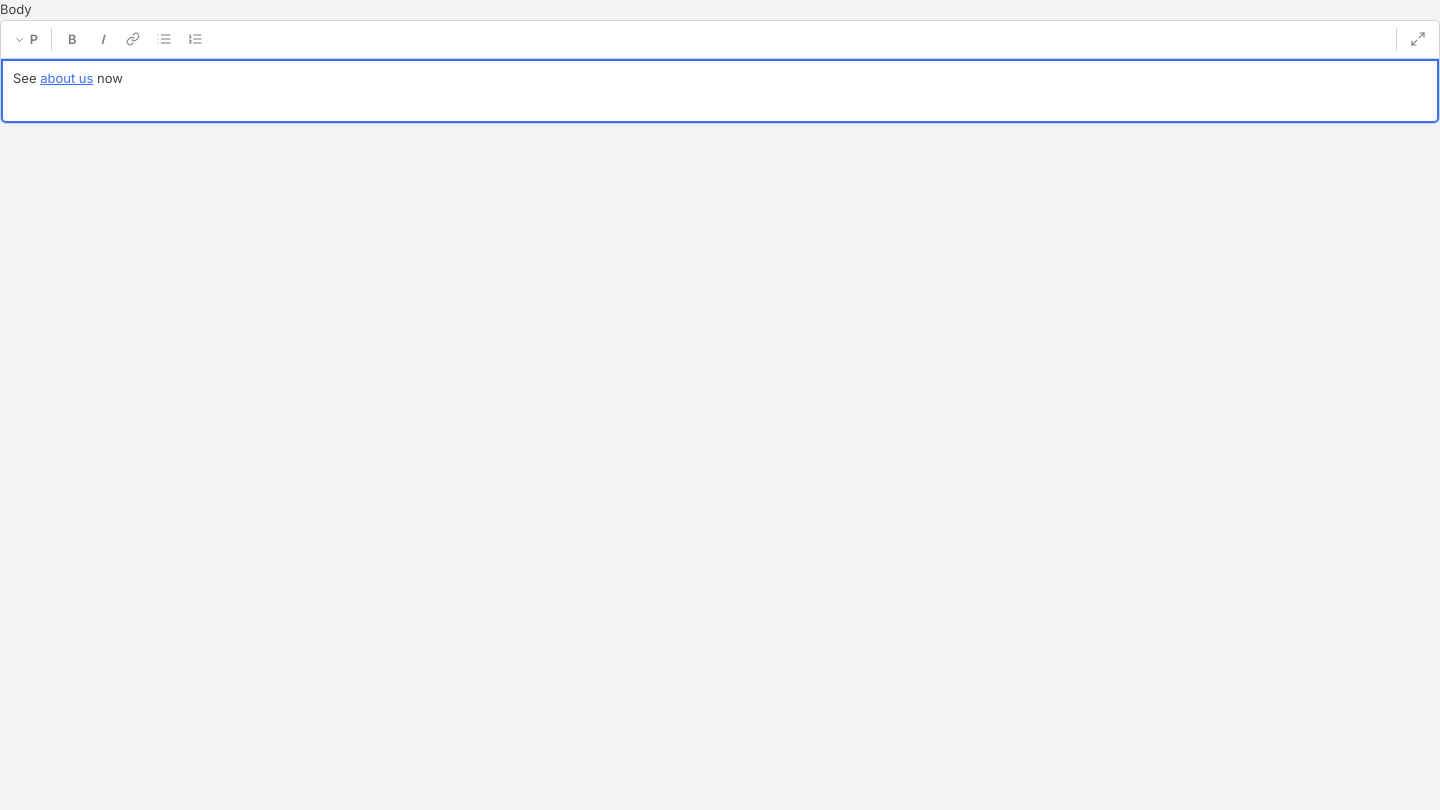
RichTextField › toolbar buttons › inside an existing link, the popover shows its address and Update changes it in place
Click the button named "Link" at (133, 39), box [119, 25, 147, 53]
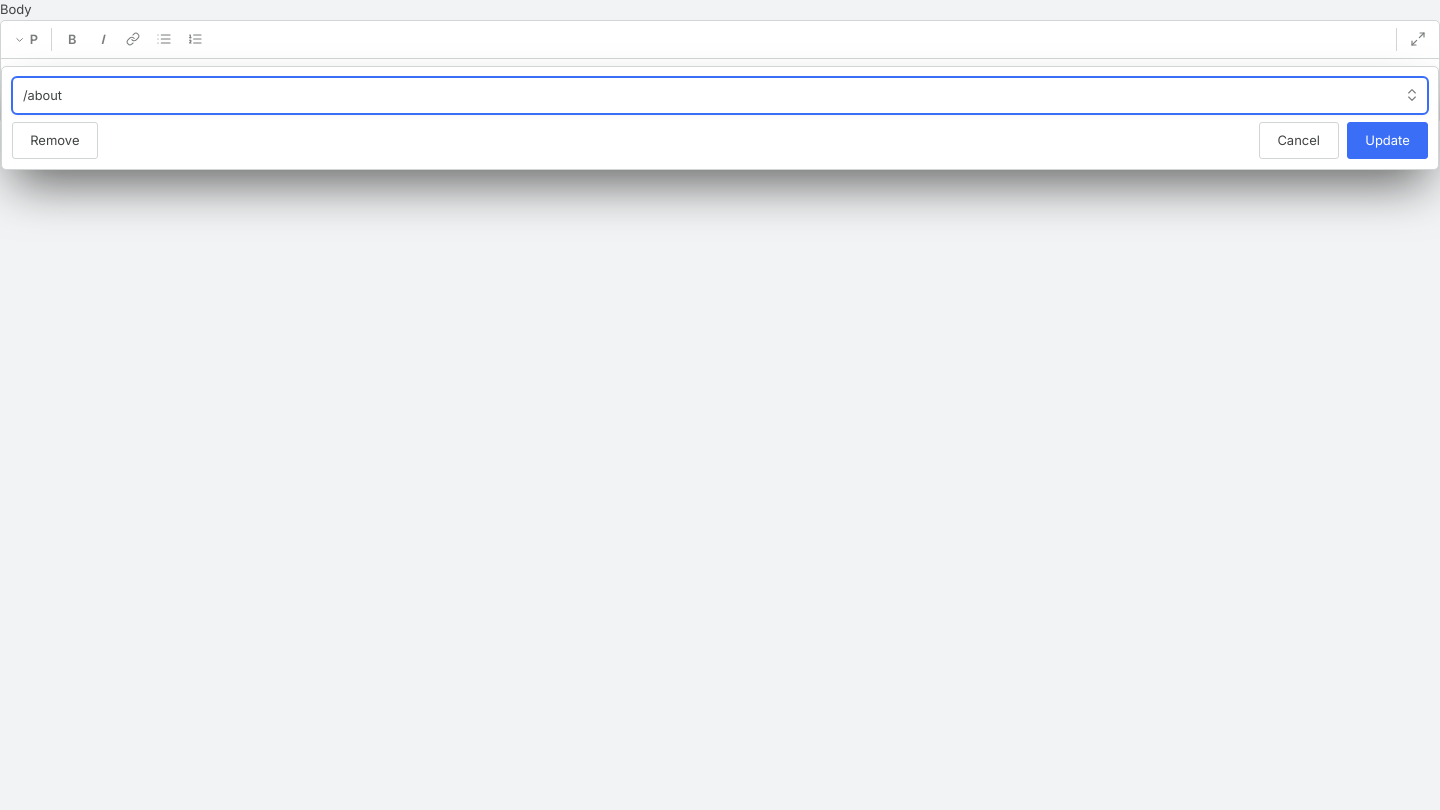
Check: the dropdown named "Link URL" holds "/about"
Replace the text in the dropdown named "Link URL" with "/contact" at (720, 95), box [12, 77, 1428, 114]
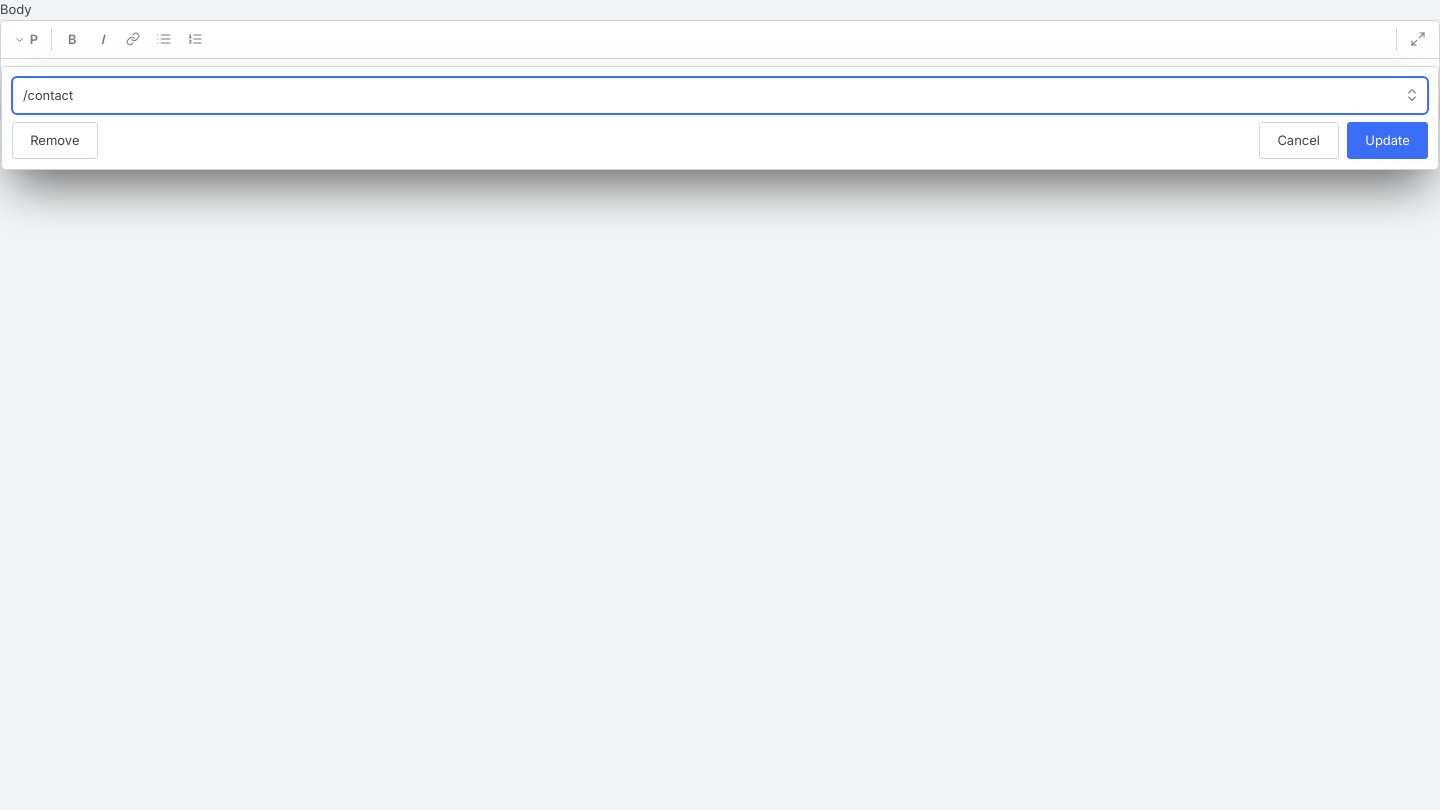
Click the button "Update" at (1388, 141), box [1347, 122, 1428, 159]
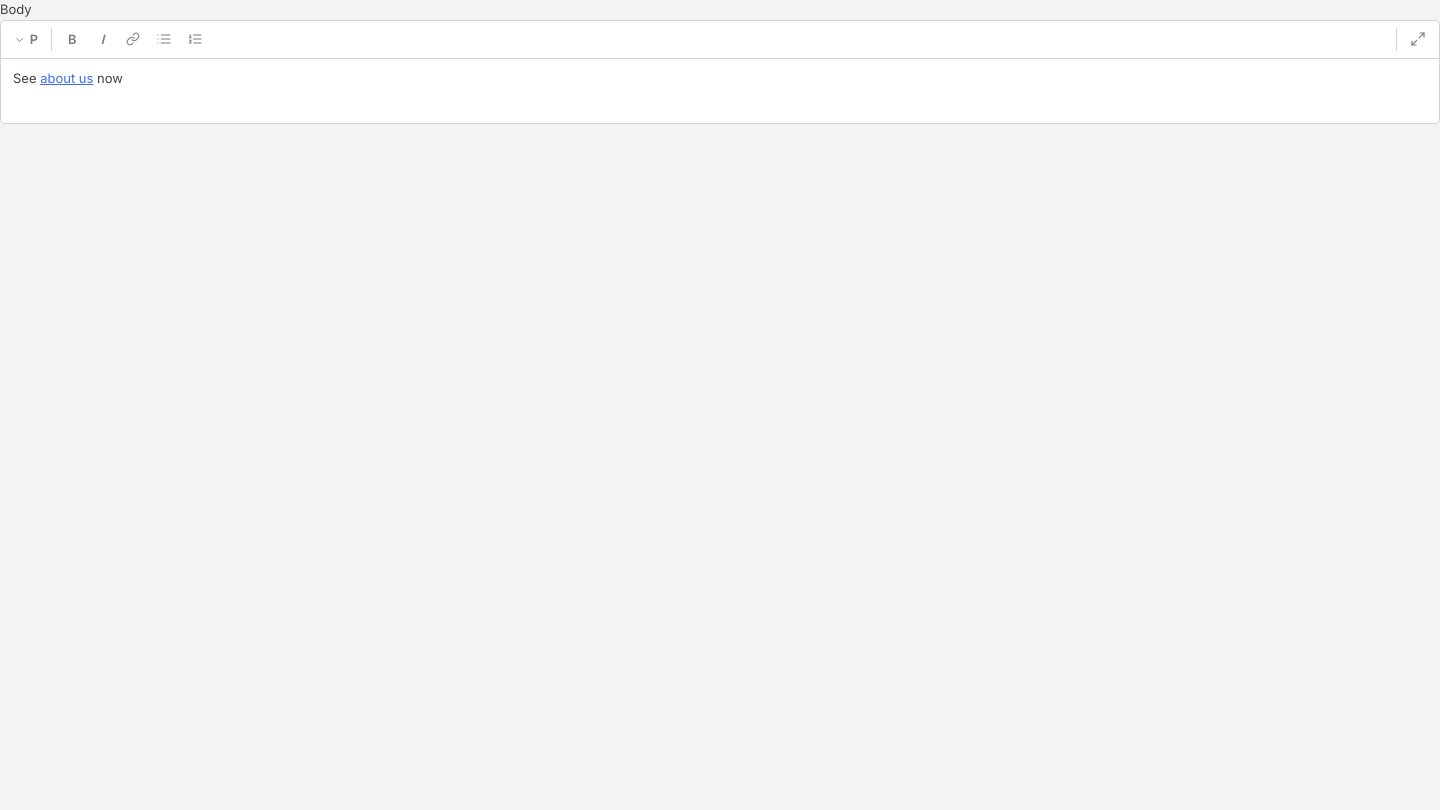
Check: the dialog is gone
